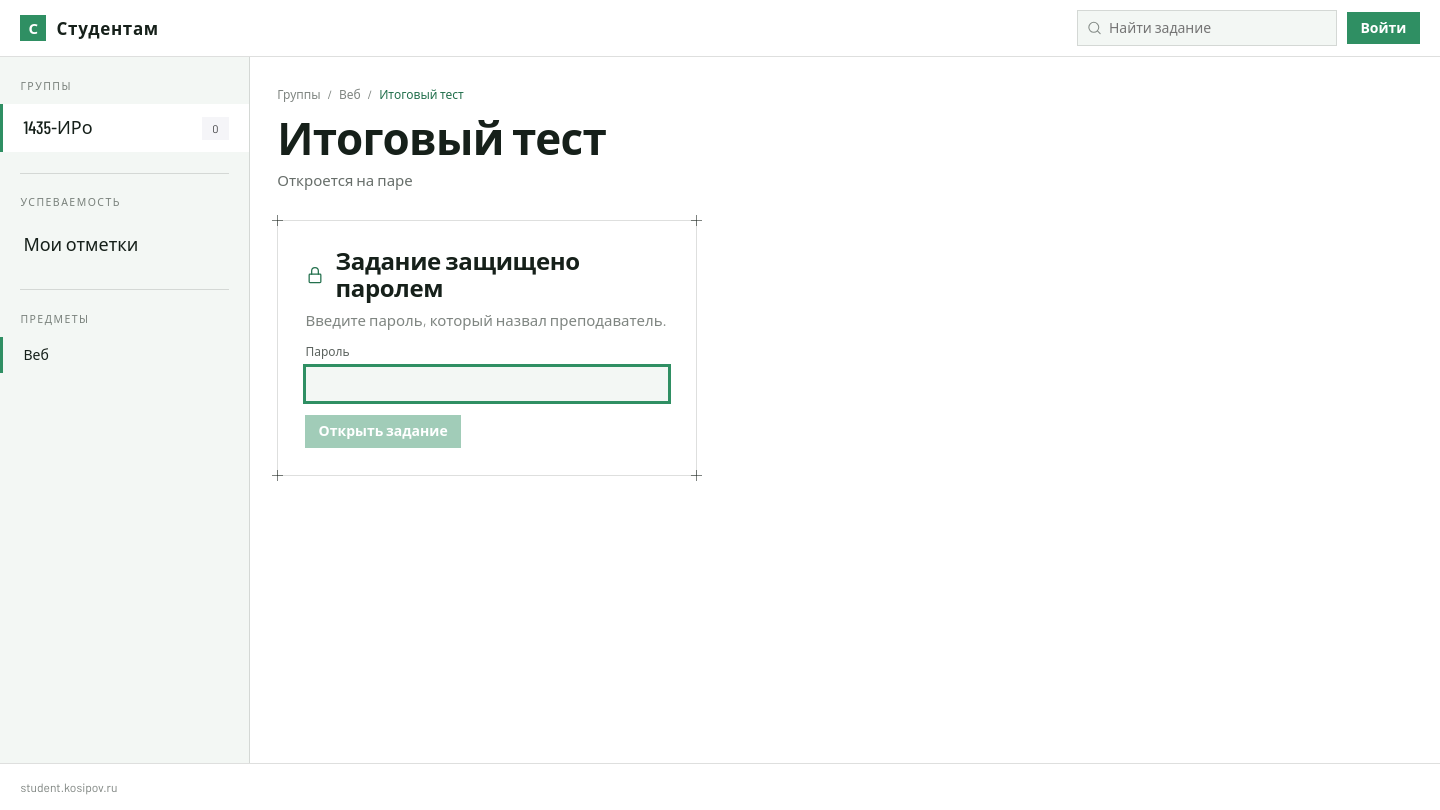
Test: TaskPage with a password › shows the limit message when there were too many attempts
Step 1. Type "guess" into the password field labelled "Пароль" → (487, 384), box [305,366,669,402]
Then press Enter
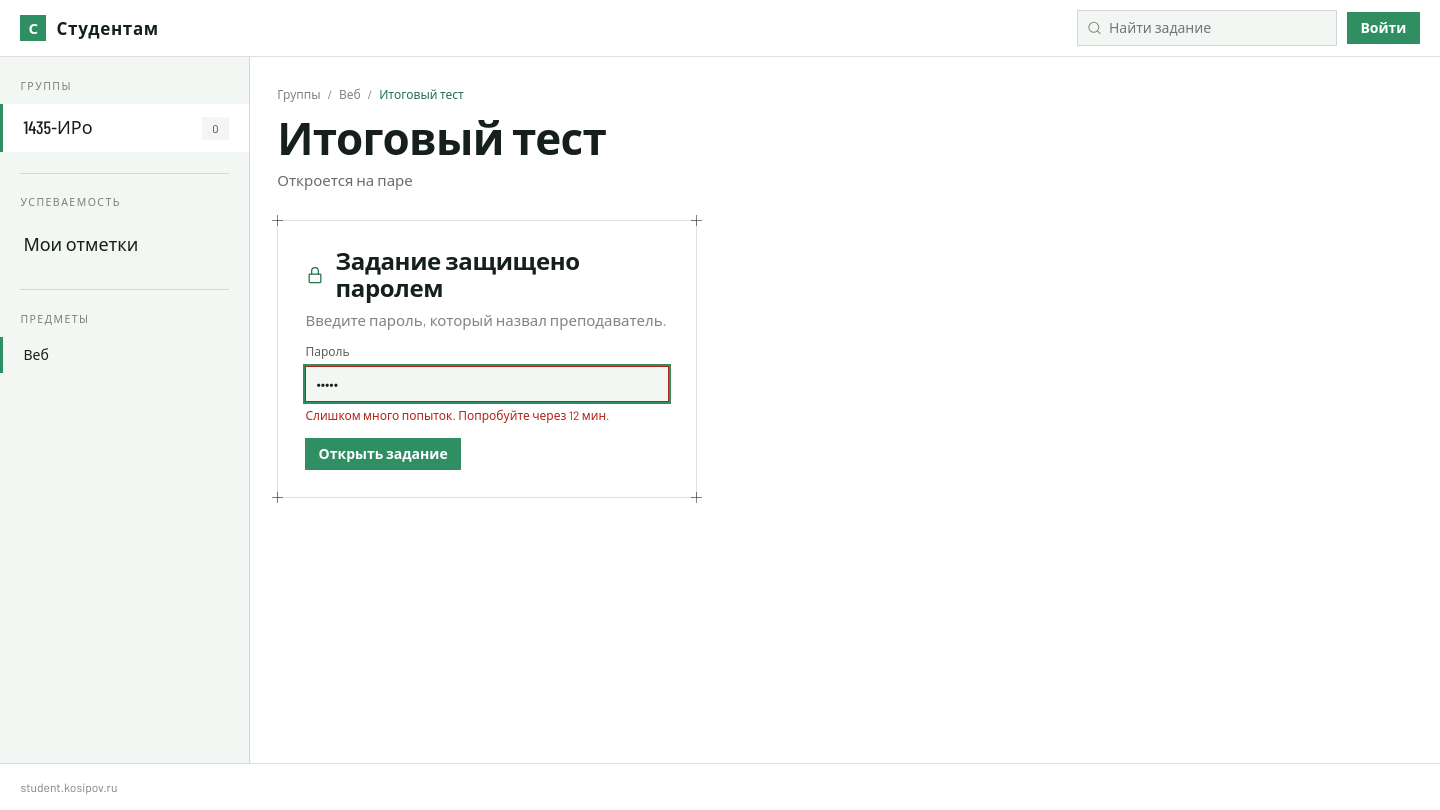
Check: the text "Слишком много попыток. Попробуйте через 12 мин." is shown, box [305,408,609,422]
